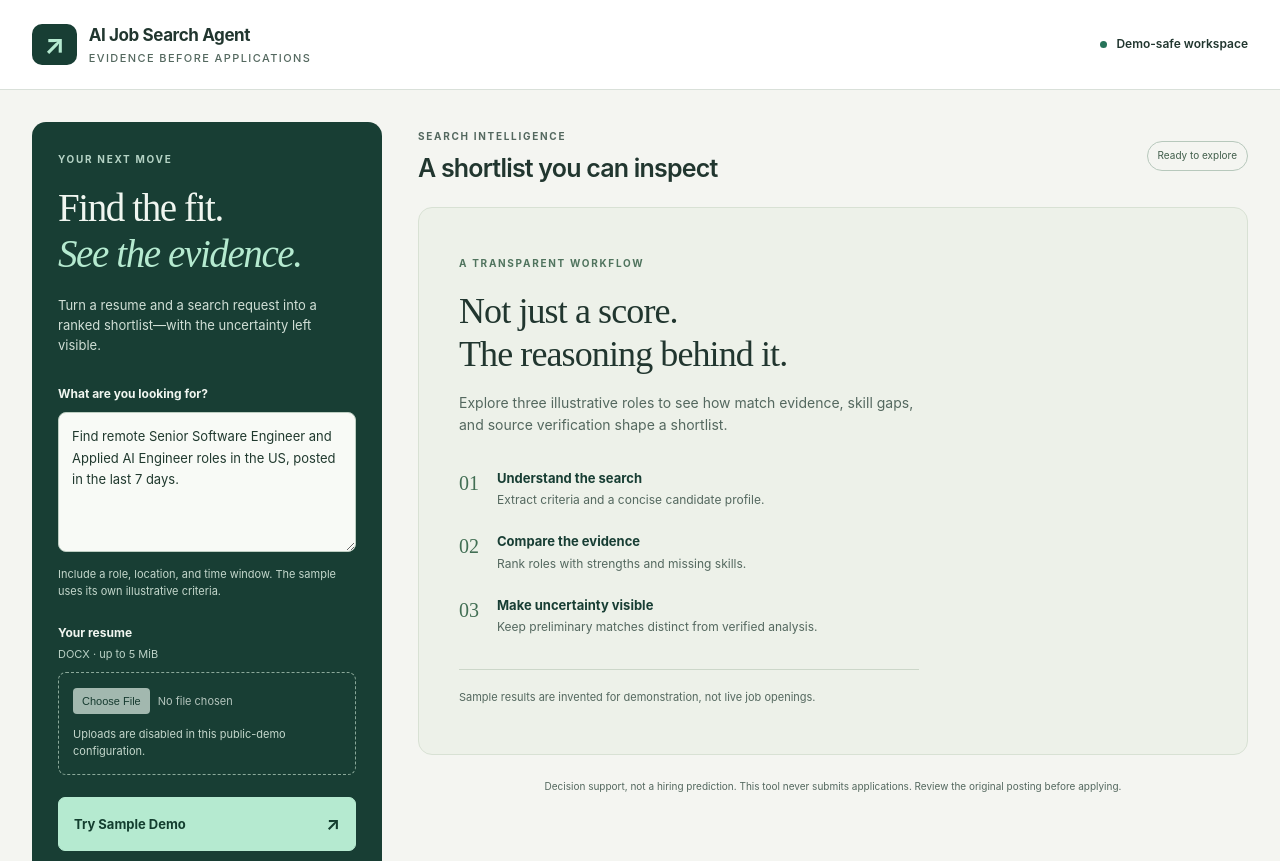
it: safe demo workspace › loads only the sample GET, labels simulated results, and never persists data
Click the button "Try Sample Demo ↗": (130, 824) [58,797,356,851]
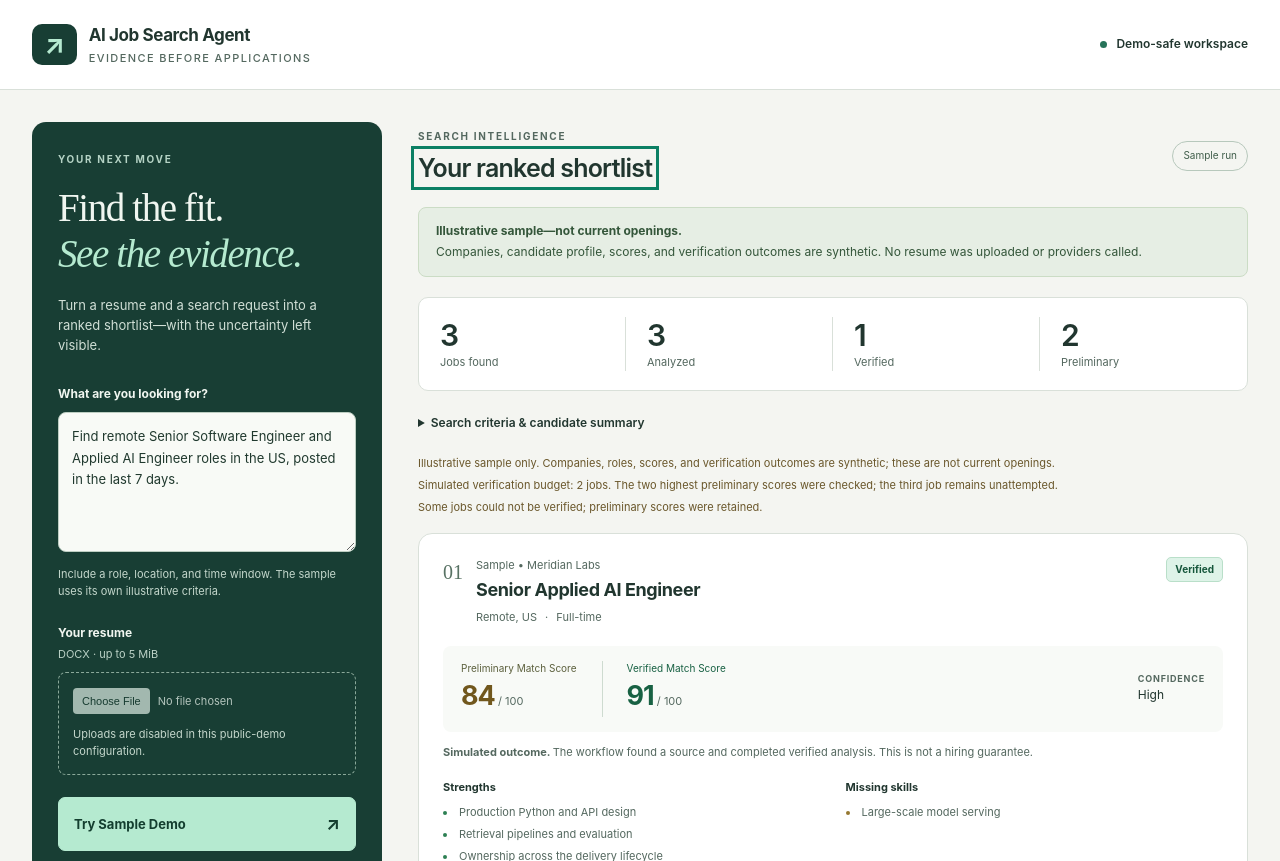
expect the heading "Your ranked shortlist" is shown: met, box [418,152,652,182]
expect the text "Illustrative sample—not current openings." is shown: met, box [436,222,682,238]
expect the text "Simulated outcome." is shown 3 times: met
